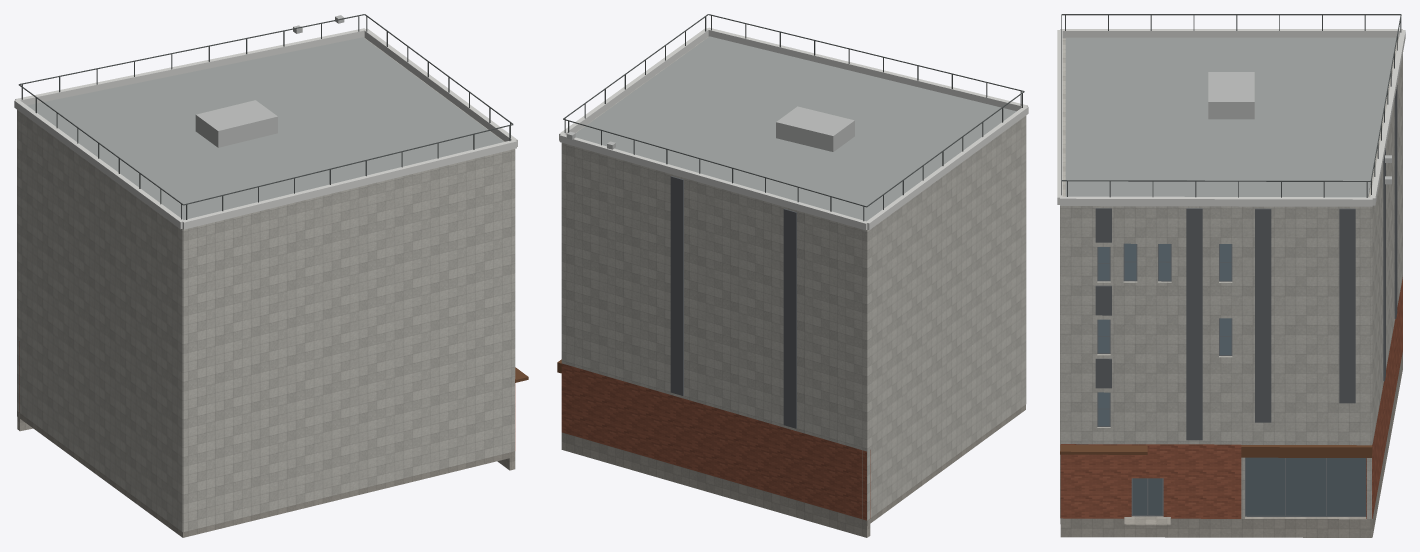
3 views of the same model, side by side, from view 1: azimuth 30°, elevation 25°; view 2: azimuth 150°, elevation 25°; view 3: azimuth 270°, elevation 25° (orthographic). The views are drawn at different scales.
Visible parts, largest first — view 1: art-hall__panel, art-hall__roof, art-hall__cap, art-hall__stone, art-hall__plant, art-hall__rail; view 2: art-hall__panel, art-hall__roof, art-hall__brick, art-hall__cap, art-hall__stone, art-hall__stripe, art-hall__plant, art-hall__rail; view 3: art-hall__panel, art-hall__roof, art-hall__stripe, art-hall__brick, art-hall__cap, art-hall__lowglass, art-hall__stone, art-hall__slitglass, art-hall__brown, art-hall__plant, art-hall__rail, art-hall__frame (+1 smaller).
Boxes of the visible parts, x1,y1,x2,y2 form: art-hall__panel: (17,37,515,532); art-hall__roof: (27,37,503,219); art-hall__cap: (14,28,517,229); art-hall__stone: (17,411,515,537); art-hall__plant: (195,15,344,147); art-hall__rail: (18,14,513,219); art-hall__panel: (561,36,1026,520); art-hall__roof: (575,36,1016,221); art-hall__brick: (561,363,870,520); art-hall__cap: (559,27,1028,230); art-hall__stone: (561,405,1025,537); art-hall__stripe: (670,176,796,428); art-hall__plant: (566,106,854,151); art-hall__rail: (563,14,1024,221); art-hall__panel: (1060,38,1402,519); art-hall__roof: (1065,37,1396,197); art-hall__stripe: (1095,85,1397,440); art-hall__brick: (1060,277,1402,518); art-hall__cap: (1057,29,1405,206); art-hall__lowglass: (1133,457,1365,515); art-hall__stone: (1060,352,1402,537); art-hall__slitglass: (1098,243,1231,425); art-hall__brown: (1060,445,1372,457); art-hall__plant: (1208,72,1391,184); art-hall__rail: (1061,14,1401,197); art-hall__frame: (1097,243,1366,516).
Size of the model in its own units: 23.41 by 22.03 by 19.54.
Materials: 13 (3 with a texture image).
